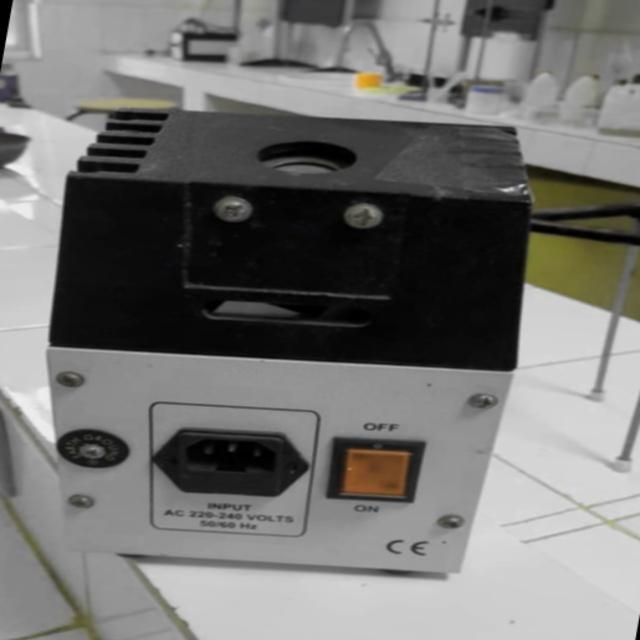Melting Point Apparatus: (0, 94, 576, 583)
